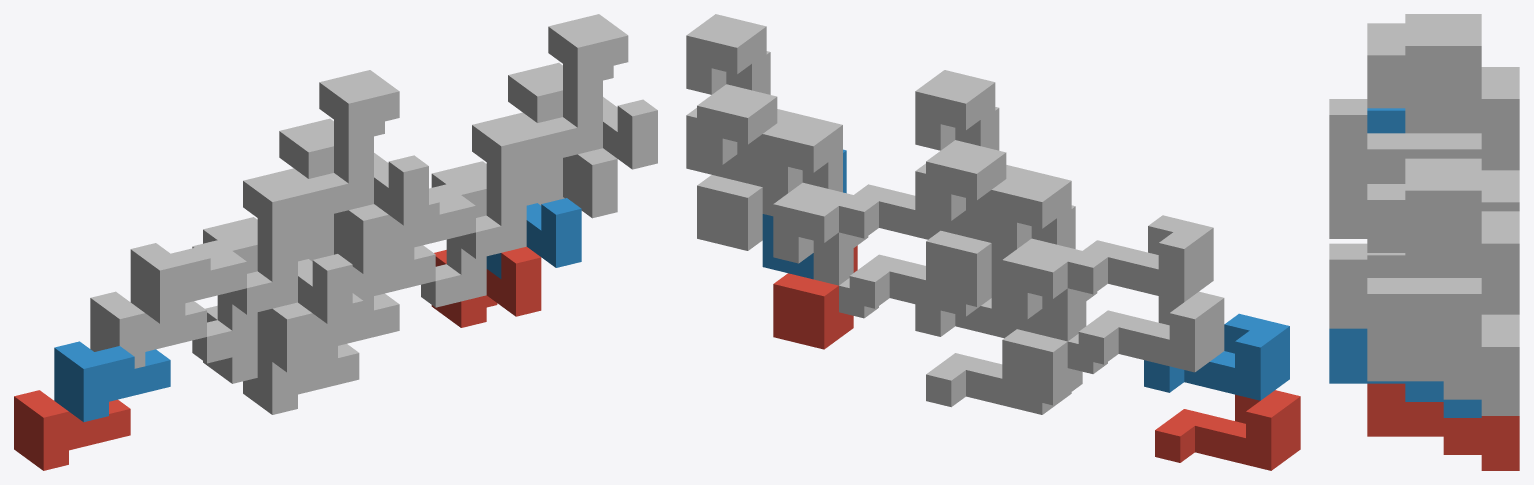
Rendered from tiling.obj.
3 views of the same model, side by side, from view 1: azimuth 30°, elevation 25°; view 2: azimuth 150°, elevation 25°; view 3: azimuth 270°, elevation 25° (orthographic). The views are drawn at different scales.
Visible parts, largest first — view 1: copy_3_domain_6, copy_3_domain_2, copy_3_domain_4, copy_3_domain_8, copy_1_domain_4, copy_1_domain_2, copy_1_domain_1, copy_1_domain_3, copy_3_domain_5, copy_3_domain_1, copy_2_domain_5, copy_2_domain_1 (+12 smaller); view 2: copy_1_domain_4, copy_1_domain_3, copy_1_domain_1, copy_1_domain_2, copy_3_domain_1, copy_3_domain_5, copy_3_domain_7, copy_3_domain_3, copy_3_domain_4, copy_3_domain_8, copy_3_domain_6, copy_3_domain_2 (+12 smaller); view 3: copy_2_domain_8, copy_2_domain_7, copy_3_domain_8, copy_3_domain_4, copy_2_domain_4, copy_2_domain_5, copy_3_domain_7, copy_3_domain_3, copy_2_domain_6, copy_1_domain_4, copy_1_domain_8, copy_2_domain_2 (+3 smaller).
Boxes of the visible parts, x1,y1,x2,y2 form: copy_3_domain_6: [461, 112, 552, 258]; copy_3_domain_2: [232, 168, 323, 314]; copy_3_domain_4: [309, 70, 399, 216]; copy_3_domain_8: [538, 14, 628, 160]; copy_1_domain_4: [130, 240, 246, 323]; copy_1_domain_2: [54, 341, 170, 422]; copy_1_domain_1: [14, 390, 130, 470]; copy_1_domain_3: [90, 291, 206, 368]; copy_3_domain_5: [421, 161, 486, 307]; copy_3_domain_1: [192, 217, 257, 363]; copy_2_domain_5: [431, 246, 541, 327]; copy_2_domain_1: [203, 302, 312, 383]; copy_1_domain_4: [1067, 215, 1213, 302]; copy_1_domain_3: [1078, 291, 1224, 372]; copy_1_domain_1: [1155, 390, 1300, 470]; copy_1_domain_2: [1144, 313, 1289, 400]; copy_3_domain_1: [1002, 238, 1107, 373]; copy_3_domain_5: [773, 182, 878, 318]; copy_3_domain_7: [697, 84, 787, 216]; copy_3_domain_3: [926, 140, 1016, 271]; copy_3_domain_4: [915, 70, 1020, 178]; copy_3_domain_8: [686, 14, 791, 122]; copy_3_domain_6: [762, 112, 868, 247]; copy_3_domain_2: [991, 168, 1097, 303]; copy_2_domain_8: [1329, 243, 1481, 362]; copy_2_domain_7: [1367, 314, 1519, 415]; copy_3_domain_8: [1405, 158, 1481, 277]; copy_3_domain_4: [1405, 14, 1481, 133]; copy_2_domain_4: [1329, 99, 1481, 183]; copy_2_domain_5: [1367, 383, 1519, 470]; copy_3_domain_7: [1443, 211, 1519, 312]; copy_3_domain_3: [1443, 67, 1519, 167]; copy_2_domain_6: [1329, 328, 1481, 417]; copy_1_domain_4: [1367, 23, 1405, 108]; copy_1_domain_8: [1367, 184, 1405, 252]; copy_2_domain_2: [1329, 184, 1367, 238].
Size of the model in its own units: 23 by 11 by 5.
